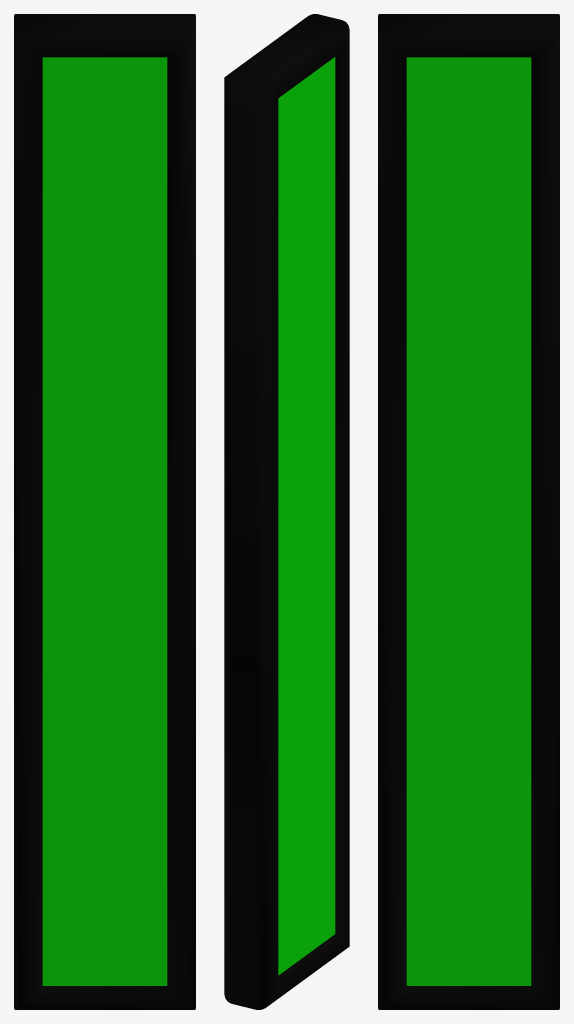
File: ILetter.fbx
3 views of the same model, side by side, from view 1: azimuth 90°, elevation 25°; view 2: azimuth 150°, elevation 25°; view 3: azimuth 270°, elevation 25° (orthographic). The views are drawn at different scales.
Visible parts, largest first — view 1: I; view 2: I; view 3: I.
Part boxes in pixels (left/top/right/bottom): I: left=14, top=14, right=195, bottom=1009; I: left=224, top=14, right=349, bottom=1009; I: left=378, top=14, right=559, bottom=1009.
Size of the model in its own units: 0.08 by 1.4 by 0.236.
